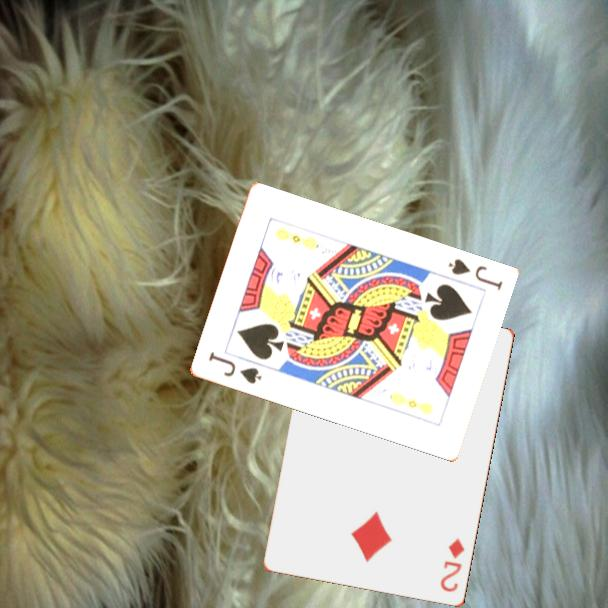d02: (437, 535, 468, 595)
s11: (444, 255, 505, 294), (204, 349, 264, 387)
